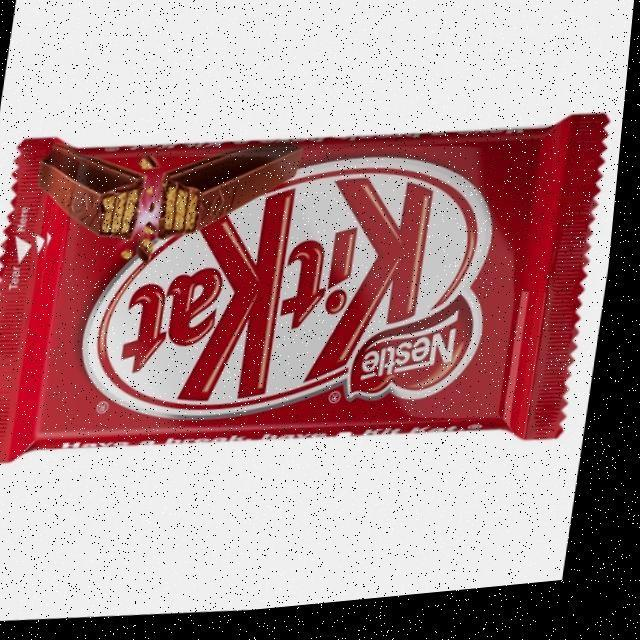kitkat_chocolate: (27, 136, 550, 442)
